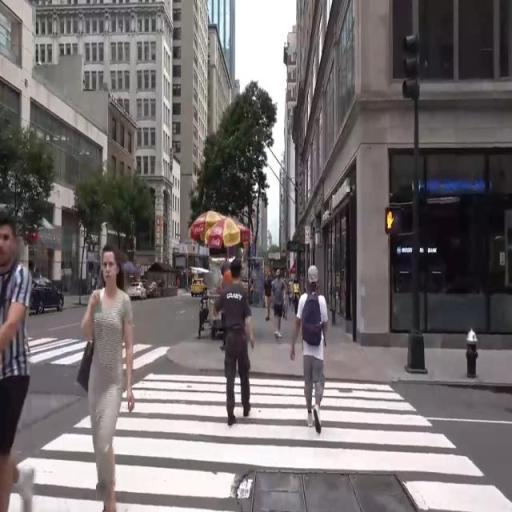person: (82, 234, 142, 512), (1, 214, 37, 512), (296, 262, 340, 433), (219, 251, 261, 423), (273, 266, 291, 335), (265, 269, 276, 320), (290, 278, 298, 308), (296, 280, 302, 308)
